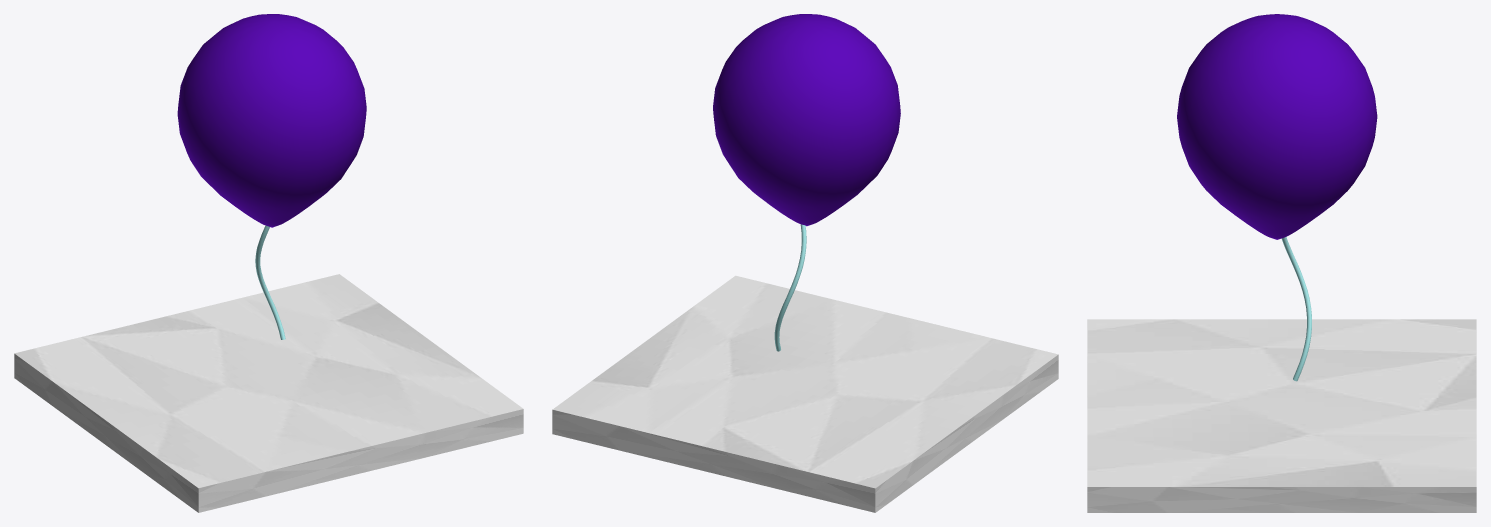
Rendered from globo.DAE.
The picture shows the model from 3 angles, left to right: view 1: azimuth 30°, elevation 25°; view 2: azimuth 150°, elevation 25°; view 3: azimuth 270°, elevation 25°; orthographic projection. The views are drawn at different scales.
Visible parts, largest first — view 1: Box001, Sphere01, Spring01; view 2: Box001, Sphere01, Spring01; view 3: Box001, Sphere01, Spring01.
Boxes of the visible parts, x1,y1,x2,y2 form: Box001: [14, 274, 523, 512]; Sphere01: [177, 14, 366, 227]; Spring01: [255, 225, 285, 339]; Box001: [552, 275, 1058, 512]; Sphere01: [713, 14, 900, 226]; Spring01: [774, 224, 806, 351]; Box001: [1087, 319, 1476, 512]; Sphere01: [1177, 14, 1377, 239]; Spring01: [1281, 237, 1311, 381].
Size of the model in its own units: 138 by 135 by 156.
3 materials, 1 textured.
